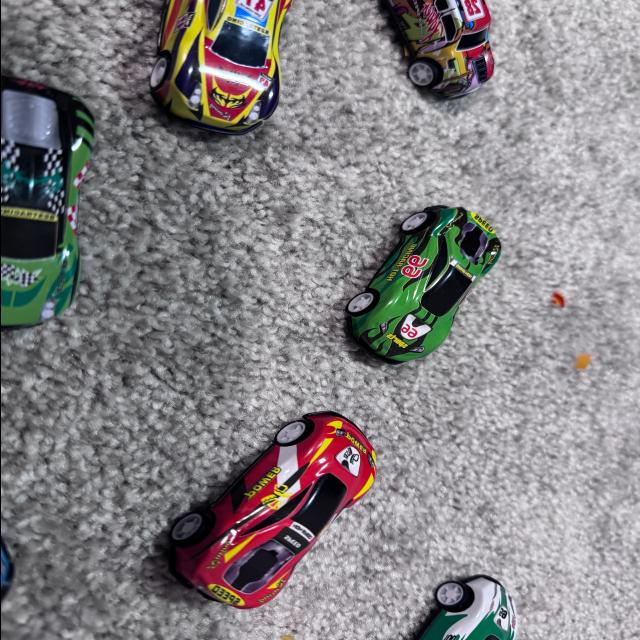Car: (116, 378, 392, 610), (0, 0, 107, 357), (342, 202, 508, 388), (161, 0, 331, 153), (340, 0, 536, 112), (372, 566, 544, 640)
